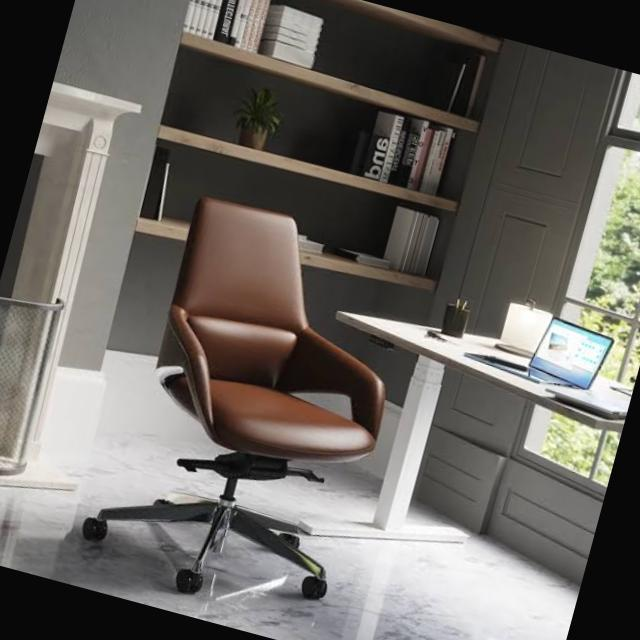Chair: (61, 182, 395, 613)
